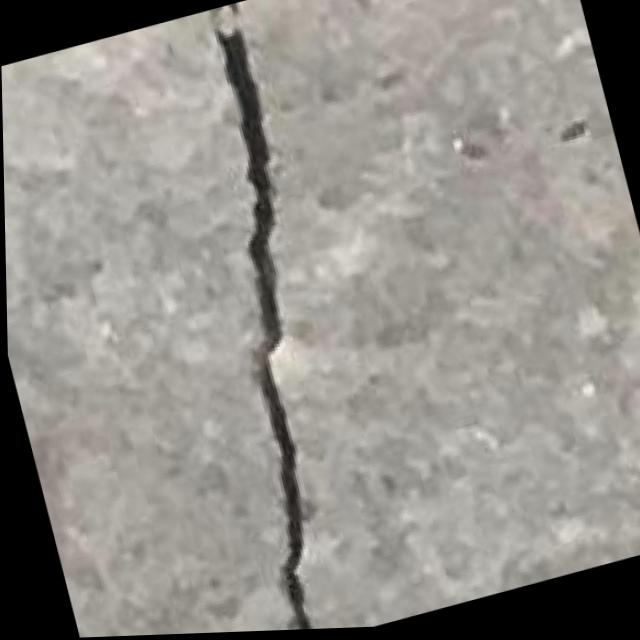Crack: (129, 0, 403, 636)
